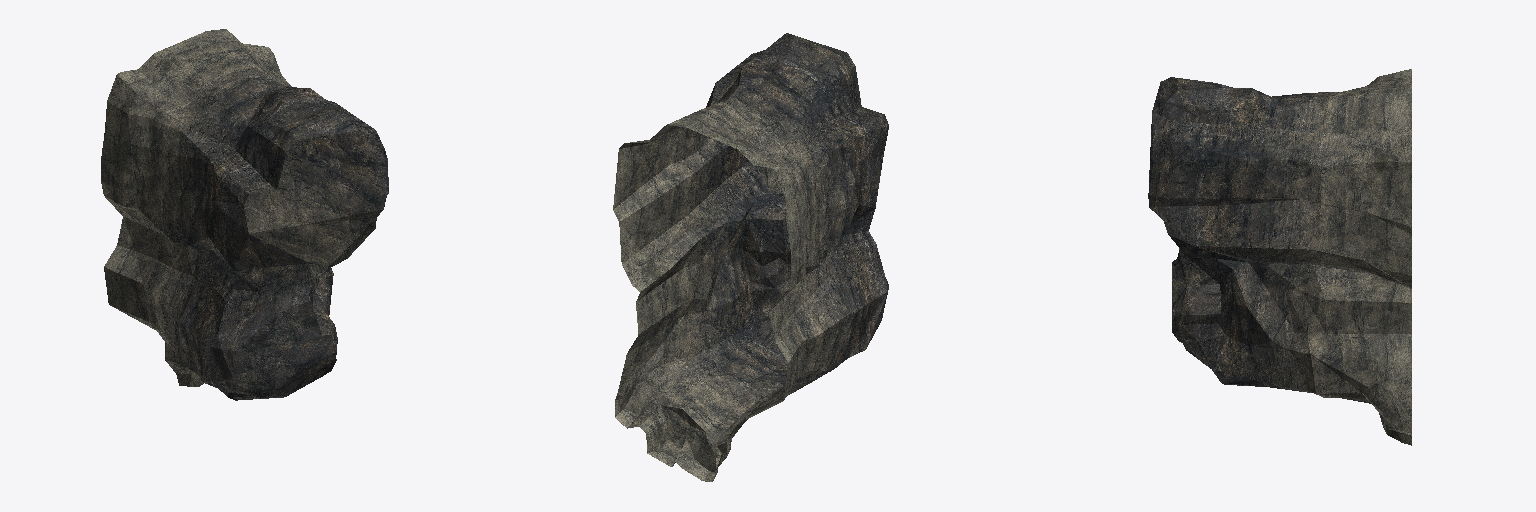
The picture shows the model from 3 angles: view 1: azimuth 30°, elevation 25°; view 2: azimuth 150°, elevation 25°; view 3: azimuth 270°, elevation 25°; orthographic projection.
Visible parts, largest first — view 1: Body.rock_desert_h.smd.mesh_0; view 2: Body.rock_desert_h.smd.mesh_0; view 3: Body.rock_desert_h.smd.mesh_0.
Boxes of the visible parts, x1,y1,x2,y2 form: Body.rock_desert_h.smd.mesh_0: [101, 29, 388, 400]; Body.rock_desert_h.smd.mesh_0: [613, 33, 888, 481]; Body.rock_desert_h.smd.mesh_0: [1148, 69, 1411, 445].
Size of the model in its own units: 163 by 308 by 208.
1 materials, 1 textured.